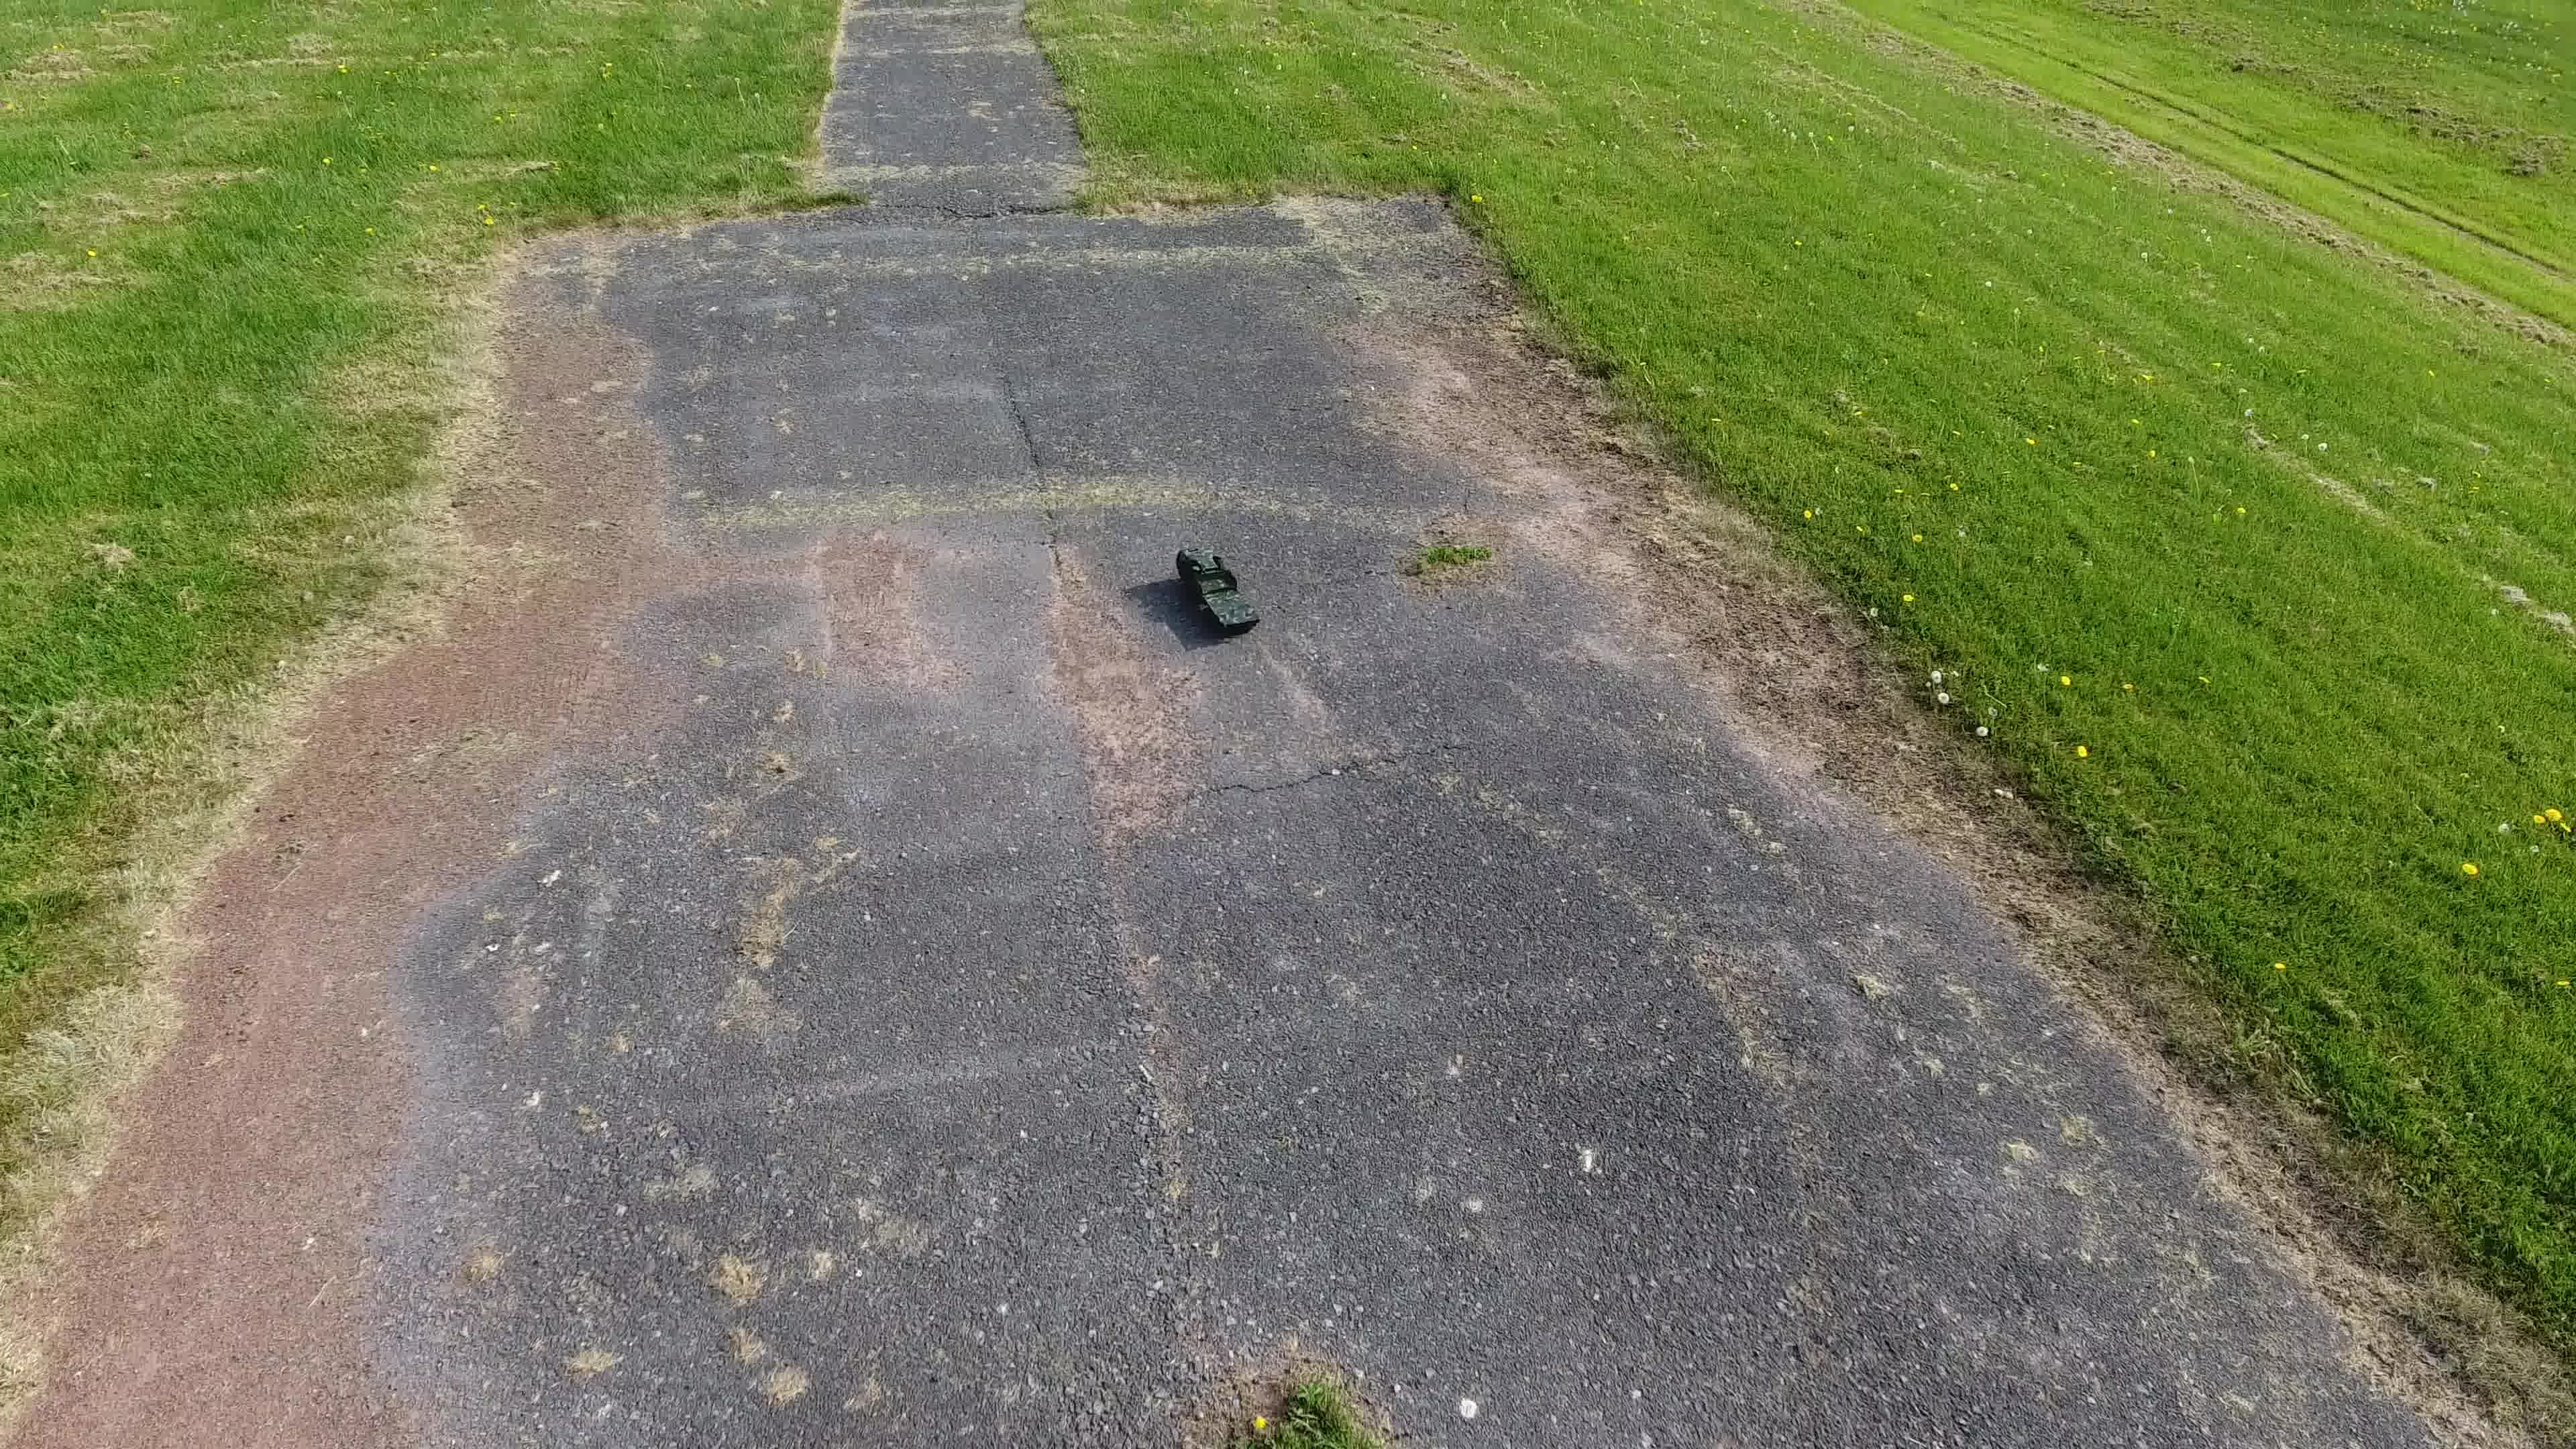transporter9_camo: (1175, 545, 1261, 633)
